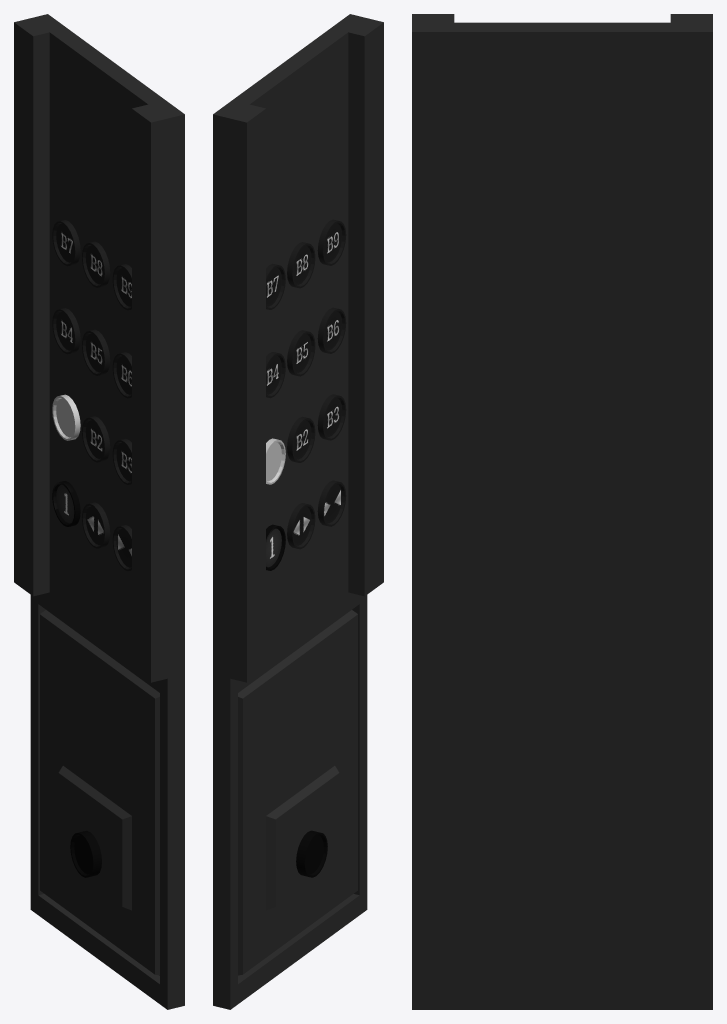
Rendered from elevator_button.fbx.
The picture shows the model from 3 angles, left to right: view 1: azimuth 30°, elevation 25°; view 2: azimuth 150°, elevation 25°; view 3: azimuth 270°, elevation 25°; orthographic projection. The views are drawn at different scales.
Parts seen in each view (by area): view 1: maze_elevator_modeling1:pCube39, maze_elevator_modeling1:polySurface165, polySurface177, polySurface169, maze_elevator_modeling1:polySurface167, polySurface172, polySurface167, polySurface170, polySurface176, polySurface173, polySurface171, polySurface174 (+2 smaller); view 2: maze_elevator_modeling1:pCube39, maze_elevator_modeling1:polySurface165, polySurface173, polySurface170, polySurface176, polySurface168, polySurface167, polySurface175, polySurface174, polySurface171, maze_elevator_modeling1:polySurface167, polySurface177 (+2 smaller); view 3: maze_elevator_modeling1:pCube39.
Part boxes in pixels (x1=…): maze_elevator_modeling1:pCube39: x1=14, y1=14, x2=184, y2=1009; maze_elevator_modeling1:polySurface165: x1=70, y1=830, x2=101, y2=877; polySurface177: x1=52, y1=481, x2=80, y2=526; polySurface169: x1=52, y1=308, x2=80, y2=354; maze_elevator_modeling1:polySurface167: x1=52, y1=394, x2=80, y2=440; polySurface172: x1=52, y1=220, x2=80, y2=266; polySurface167: x1=81, y1=416, x2=110, y2=462; polySurface170: x1=81, y1=329, x2=110, y2=375; polySurface176: x1=81, y1=502, x2=110, y2=548; polySurface173: x1=82, y1=241, x2=110, y2=287; polySurface171: x1=112, y1=352, x2=131, y2=398; polySurface174: x1=112, y1=264, x2=131, y2=310; maze_elevator_modeling1:pCube39: x1=213, y1=14, x2=383, y2=1009; maze_elevator_modeling1:polySurface165: x1=296, y1=830, x2=327, y2=877; polySurface173: x1=287, y1=242, x2=315, y2=288; polySurface170: x1=287, y1=330, x2=315, y2=376; polySurface176: x1=287, y1=503, x2=315, y2=549; polySurface168: x1=317, y1=394, x2=346, y2=440; polySurface167: x1=287, y1=416, x2=315, y2=462; polySurface175: x1=317, y1=480, x2=346, y2=526; polySurface174: x1=317, y1=219, x2=346, y2=265; polySurface171: x1=317, y1=307, x2=346, y2=353; maze_elevator_modeling1:polySurface167: x1=266, y1=438, x2=285, y2=484; polySurface177: x1=266, y1=524, x2=285, y2=570; maze_elevator_modeling1:pCube39: x1=412, y1=14, x2=712, y2=1009.
Size of the model in its own units: 0.7581 by 18.64 by 5.2.
